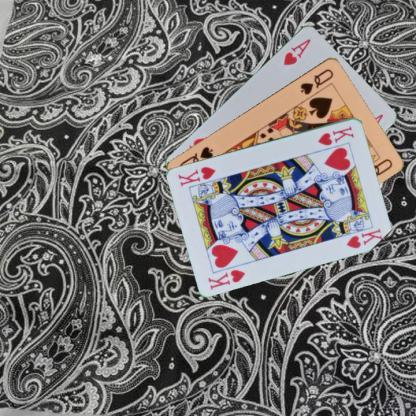Ah: (280, 36, 312, 66)
Kh: (204, 266, 247, 291), (315, 124, 356, 146)
Qs: (298, 66, 335, 96)
